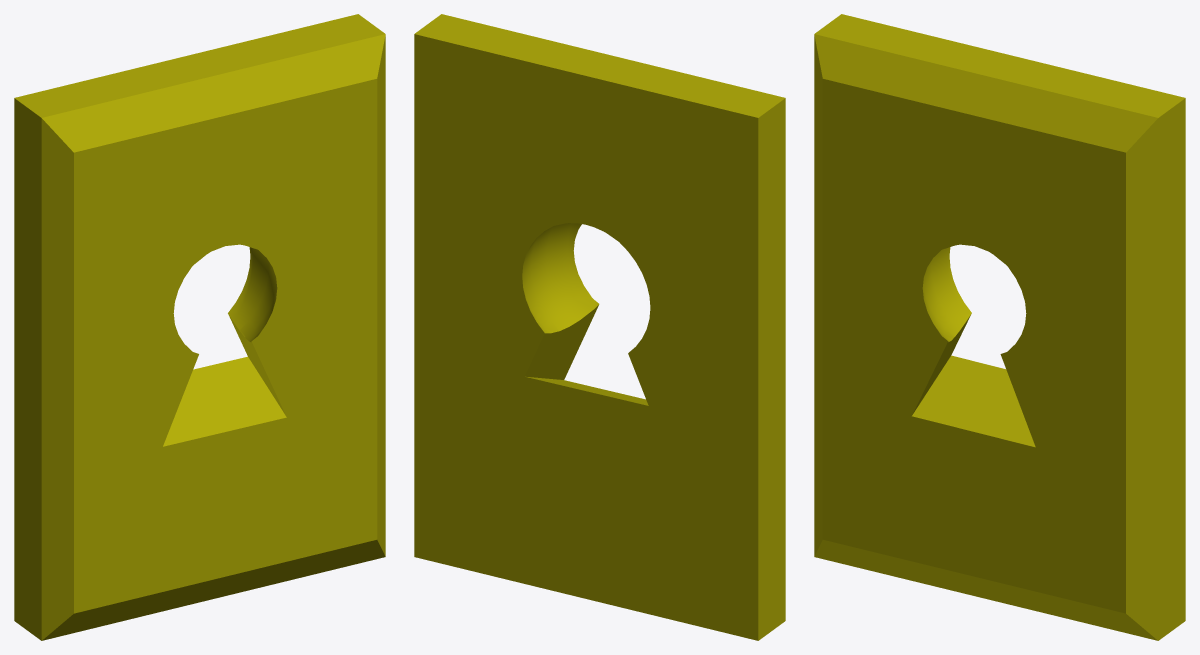
Rendered from LockpadFBX 1.fbx.
The picture shows the model from 3 angles, left to right: view 1: azimuth 30°, elevation 25°; view 2: azimuth 150°, elevation 25°; view 3: azimuth 330°, elevation 25°; orthographic projection.
Visible parts, largest first — view 1: pCube3; view 2: pCube3; view 3: pCube3.
Part boxes in pixels (<box>): pCube3: <box>14,14,385,640</box>; pCube3: <box>414,14,785,640</box>; pCube3: <box>814,14,1185,640</box>.
Bounding box in the file's own units: 2.77 × 4.03 × 0.5475.
